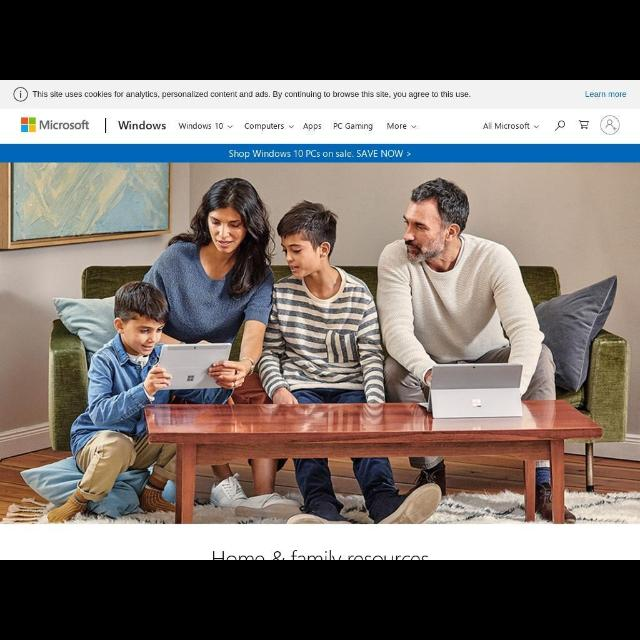button: (600, 116, 620, 136)
icon: (14, 86, 28, 102), (578, 118, 590, 130), (604, 120, 616, 132), (554, 118, 564, 132), (288, 124, 296, 130), (533, 124, 539, 130), (226, 125, 234, 129), (410, 124, 416, 128)
image: (1, 162, 639, 524), (20, 117, 90, 135)
spinner: (482, 122, 540, 132), (178, 122, 234, 132), (245, 121, 295, 131), (386, 121, 416, 131)
text: (34, 91, 472, 99), (212, 549, 434, 559), (228, 148, 404, 160), (119, 121, 167, 131), (332, 122, 374, 132), (482, 122, 530, 130), (178, 122, 225, 130), (583, 90, 629, 98), (244, 123, 284, 131), (304, 122, 322, 132), (387, 122, 408, 130)
toolbar: (1, 110, 639, 144)
